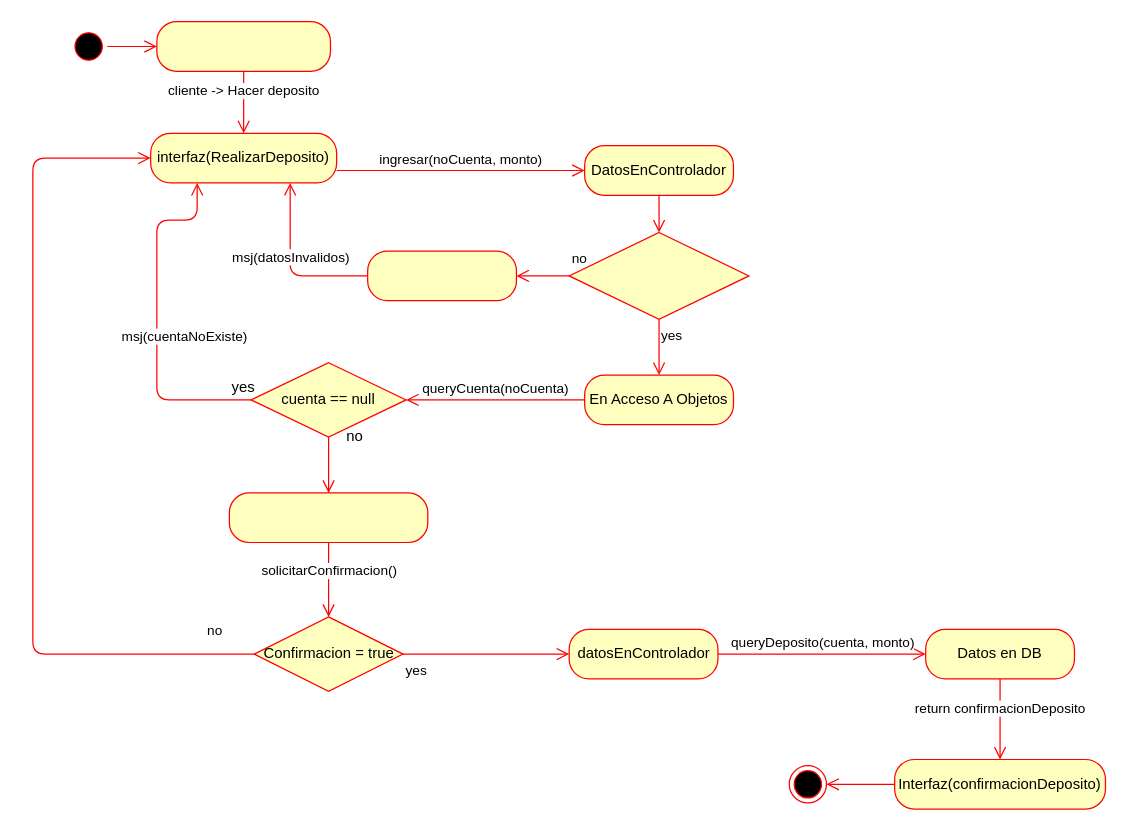
The diagram is 1127 pixels wide and 831 high, and some of its shapes have lost their labels. Here are the shapes that lost their labels. From the top down, the box of each, then its label:
(156, 20, 330, 71): Interfaz(Cajero)
(366, 250, 516, 301): Interfaz(errorDatos)
(568, 231, 749, 319): datosValidos(noCuenta, monto)
(228, 492, 428, 542): interfaz(confirmacion)
